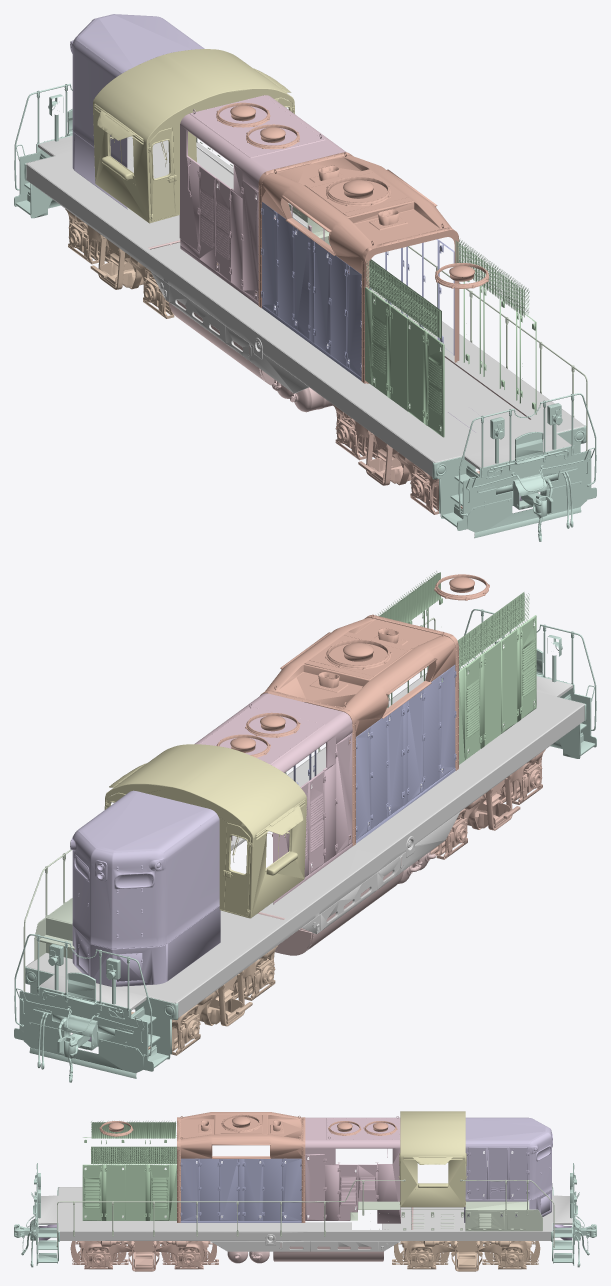
File: trainreduced2.glb
The picture shows the model from 3 angles, top to bottom: view 1: azimuth 30°, elevation 25°; view 2: azimuth 150°, elevation 25°; view 3: azimuth 270°, elevation 25°; orthographic projection. The views are drawn at different scales.
Parts seen in each view (by area): view 1: 005, 010, 008, 009, 013, 011, 012, 014, 001, 002, 004, 003; view 2: 005, 014, 009, 008, 010, 013, 011, 012, 002, 001, 003, 004; view 3: 005, 011, 013, 012, 014, 010, 008, 003, 001, 002, 009, 004.
Boxes of the visible parts, x1,y1,x2,y2 form: 005: (26, 136, 584, 476); 010: (216, 102, 488, 383); 008: (93, 49, 294, 223); 009: (14, 83, 596, 541); 013: (179, 95, 349, 305); 011: (365, 238, 536, 437); 012: (261, 202, 454, 380); 014: (70, 14, 204, 209); 001: (332, 404, 479, 514); 002: (65, 208, 256, 318); 004: (148, 217, 530, 419); 003: (196, 137, 587, 450); 005: (26, 671, 584, 1017); 014: (70, 790, 220, 986); 009: (14, 609, 596, 1082); 008: (104, 744, 306, 918); 010: (216, 574, 489, 846); 013: (194, 693, 352, 904); 011: (376, 571, 536, 764); 012: (293, 665, 456, 843); 002: (72, 945, 278, 1055); 001: (430, 749, 545, 859); 003: (23, 617, 435, 991); 004: (258, 833, 435, 955); 005: (38, 1187, 572, 1251); 011: (82, 1121, 176, 1220); 013: (305, 1116, 400, 1223); 012: (180, 1158, 301, 1222); 014: (464, 1117, 552, 1222); 010: (99, 1112, 397, 1222); 008: (398, 1111, 467, 1207); 003: (56, 1179, 554, 1247); 001: (70, 1241, 218, 1271); 002: (392, 1241, 540, 1271); 009: (14, 1163, 596, 1267); 004: (227, 1207, 413, 1263).
Size of the model in its own units: 1.25 by 1.6 by 6.01.
